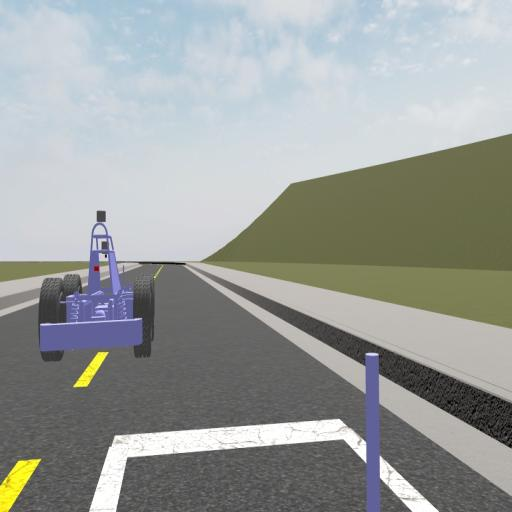ERP-42: (39, 211, 154, 364)
